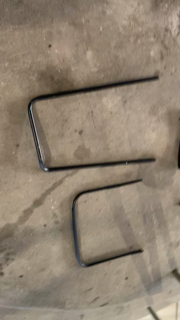C pipe: (72, 178, 147, 269)
U pipe: (27, 74, 162, 174)
